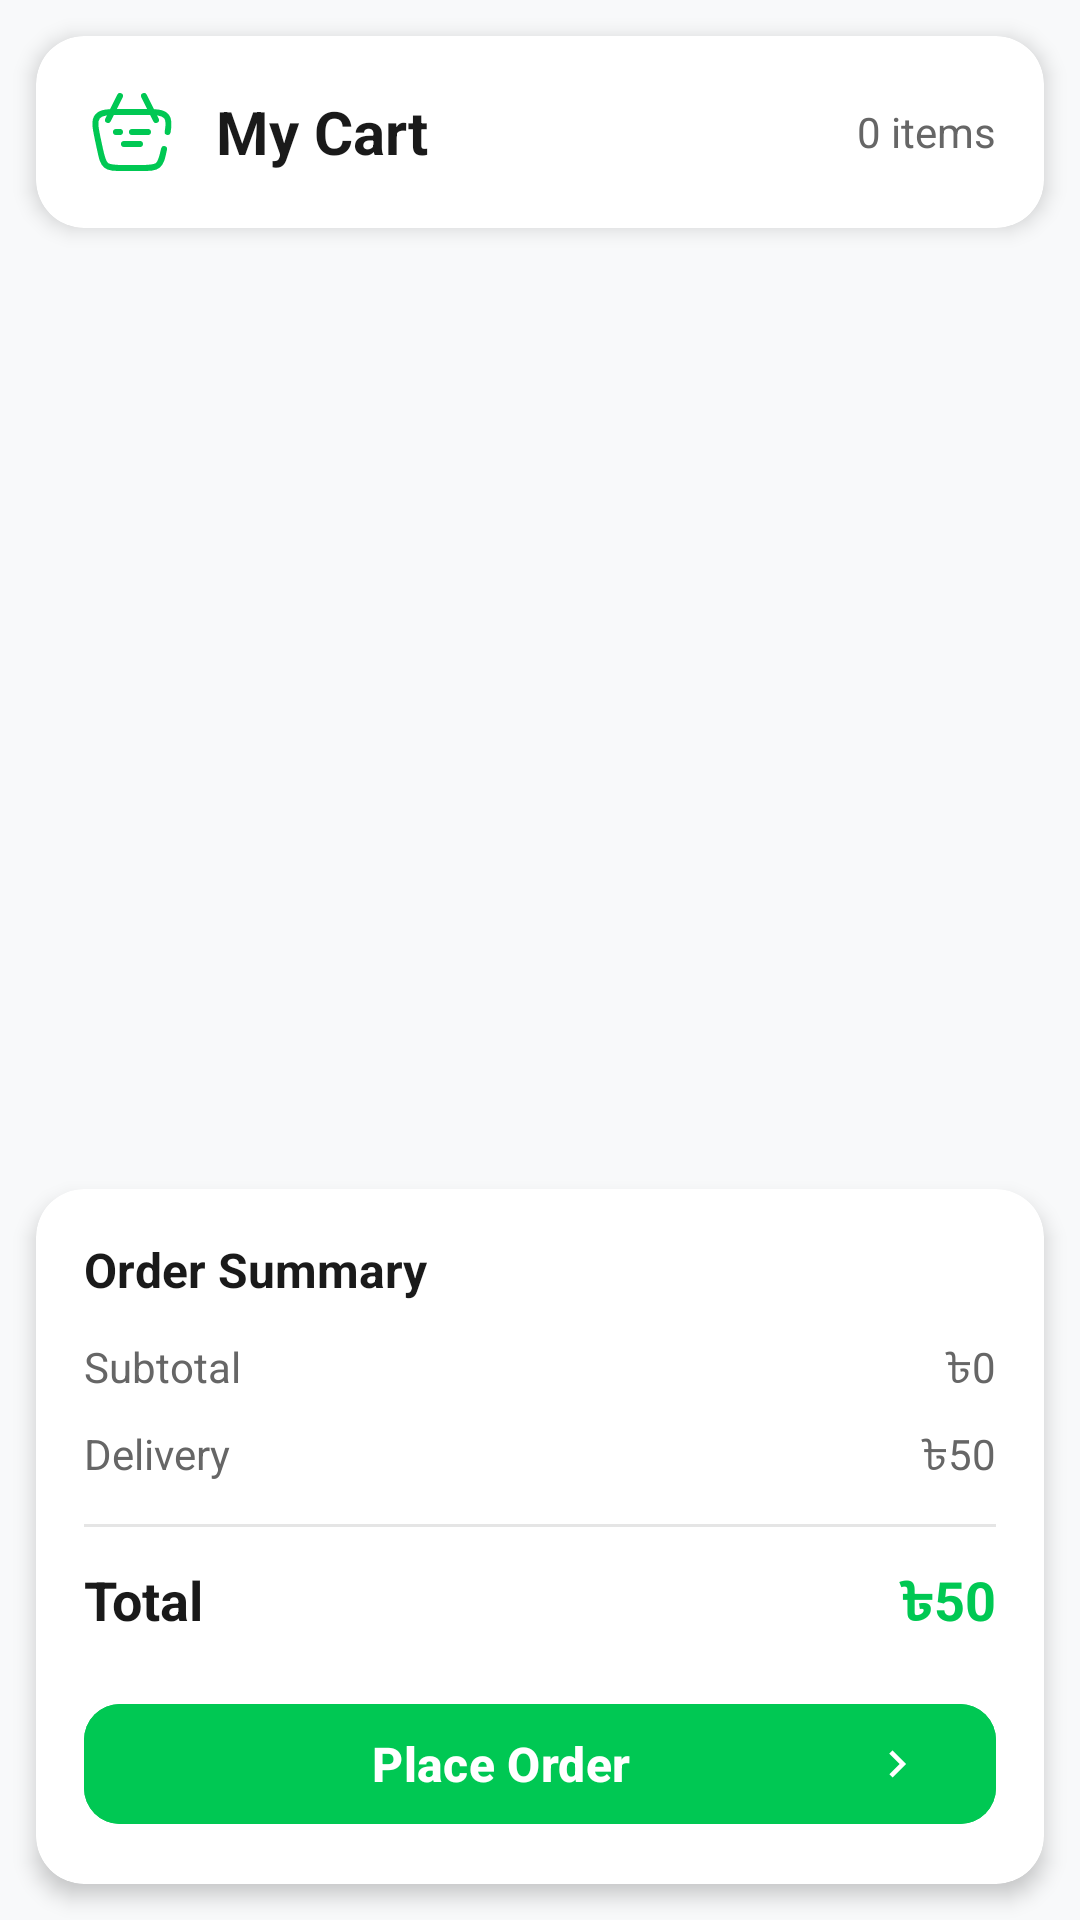

Named icons in this screenshot (1080×1920) and their bounding boxes, bbox(x1, y1, x2, y2):
Shopping Cart: bbox(92, 93, 172, 171)
